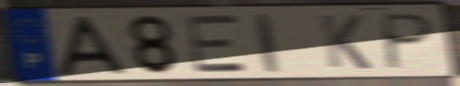8: (126, 14, 179, 76)
A: (55, 14, 131, 77)
E: (183, 13, 251, 75)
I: (251, 11, 283, 75)
K: (317, 12, 374, 71)
P: (381, 12, 438, 72)
